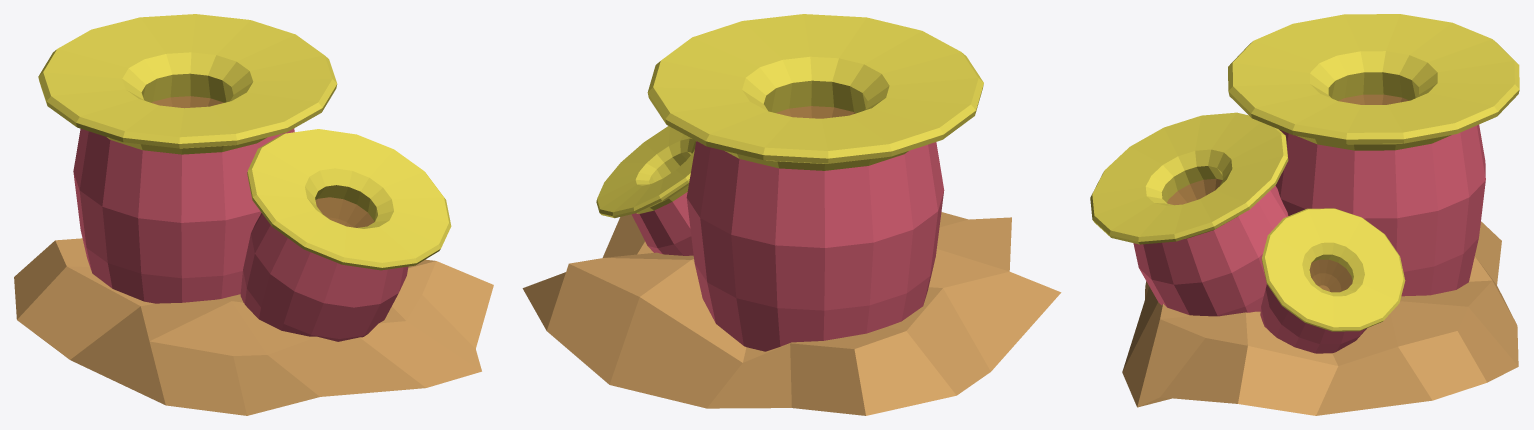
The model's file is DrumCoral.fbx.
The picture shows the model from 3 angles, left to right: view 1: azimuth 30°, elevation 25°; view 2: azimuth 150°, elevation 25°; view 3: azimuth 270°, elevation 25°; orthographic projection. The views are drawn at different scales.
Parts seen in each view (by area): view 1: Cylinder.009, Cube; view 2: Cylinder.009, Cube; view 3: Cylinder.009, Cube.
Part boxes in pixels (<box>): Cylinder.009: <box>38,14,451,341</box>; Cube: <box>14,238,493,415</box>; Cylinder.009: <box>596,14,983,351</box>; Cube: <box>522,212,1061,415</box>; Cylinder.009: <box>1090,14,1519,353</box>; Cube: <box>1122,221,1518,415</box>.
Bounding box in the file's own units: 205 × 130 × 199.
